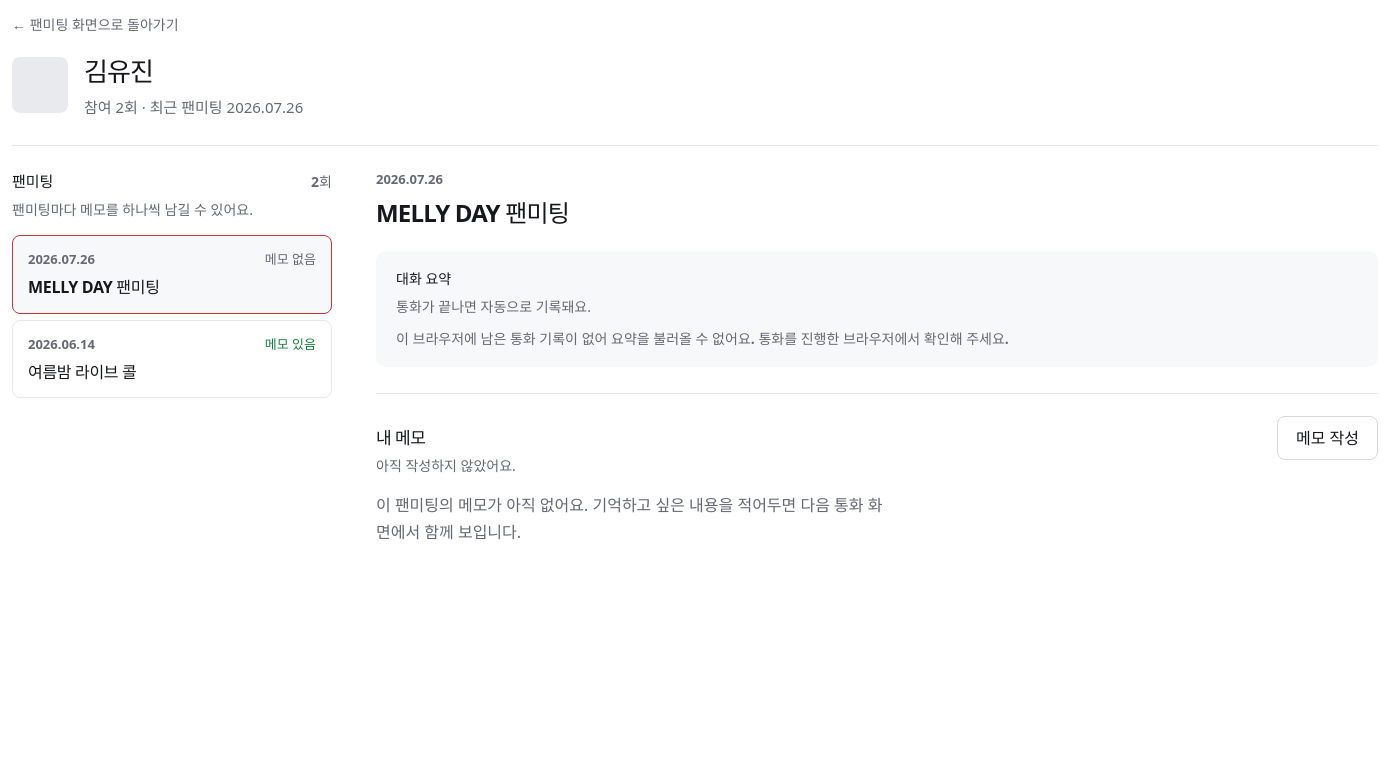
Test: InfluencerFanRecordPage › 빈 메모는 저장 버튼을 비활성하고 사유를 함께 보여 준다
Expected: the heading "김유진" is shown, [84, 53, 153, 89]
Click the button "메모 작성".
click(1328, 438)  # box [1277, 416, 1378, 460]
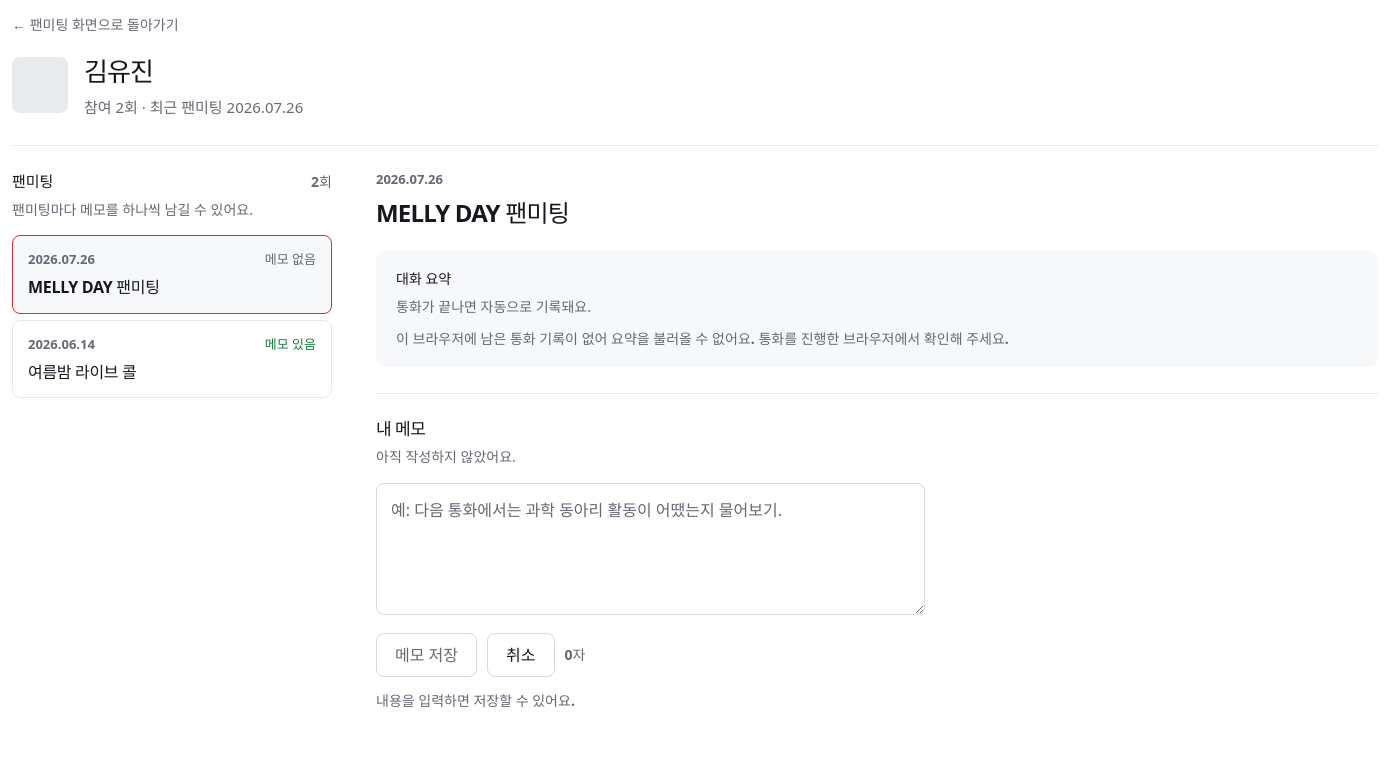
Expected: the button "메모 저장" is disabled, [376, 633, 477, 677]
Expected: the text "내용을 입력하면 저장할 수 있어요." is shown, [376, 691, 575, 710]
Type "과학 동아리 이야기를 다시 묻기" into the text box named "내 메모".
click(651, 549); type("과학 동아리 이야기를 다시 묻기")  # box [376, 483, 925, 615]
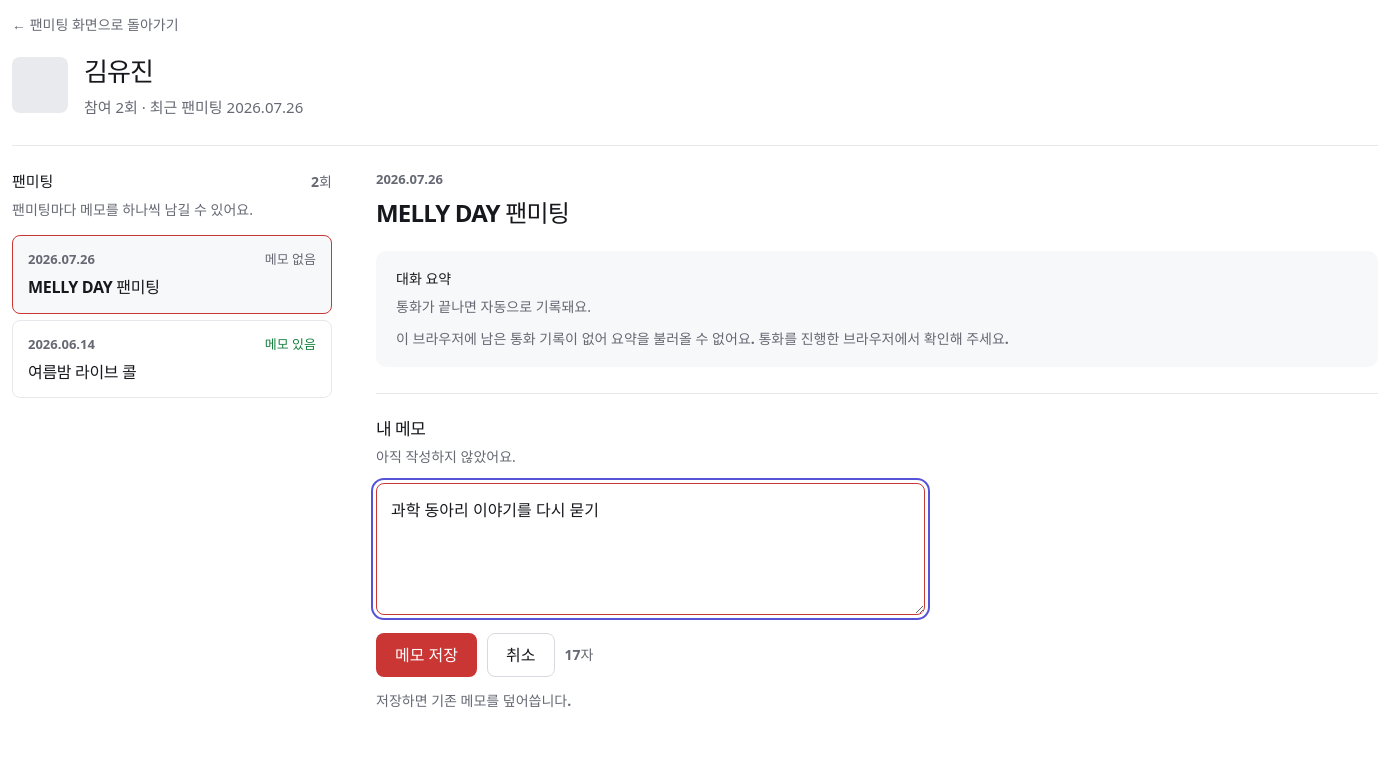
Expected: the button "메모 저장" is enabled, [376, 633, 477, 677]
Expected: the text "저장하면 기존 메모를 덮어씁니다." is shown, [376, 691, 571, 710]
Expected: the text "17자" is shown, [564, 645, 593, 665]
